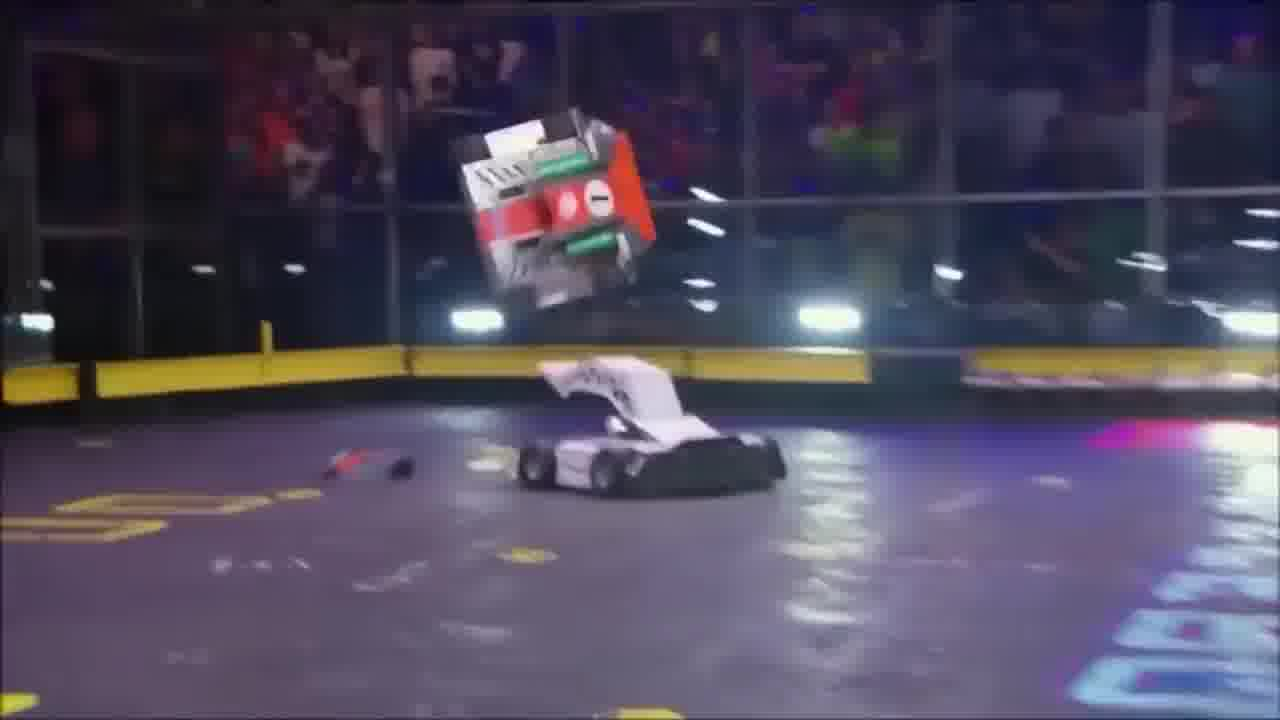combatbot: (516, 352, 785, 504), (450, 109, 660, 300)
minibot: (320, 449, 416, 486)
